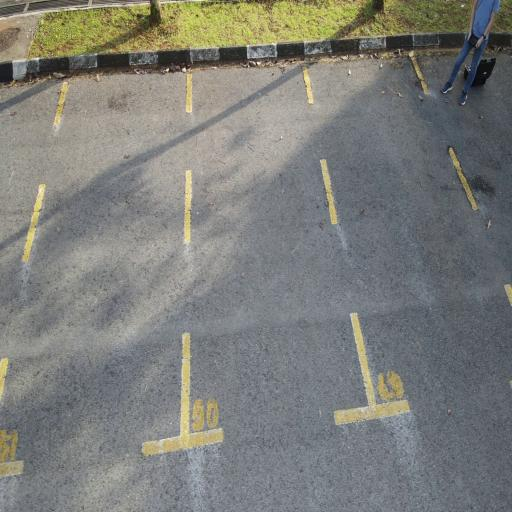Empty: (177, 58, 388, 457)
